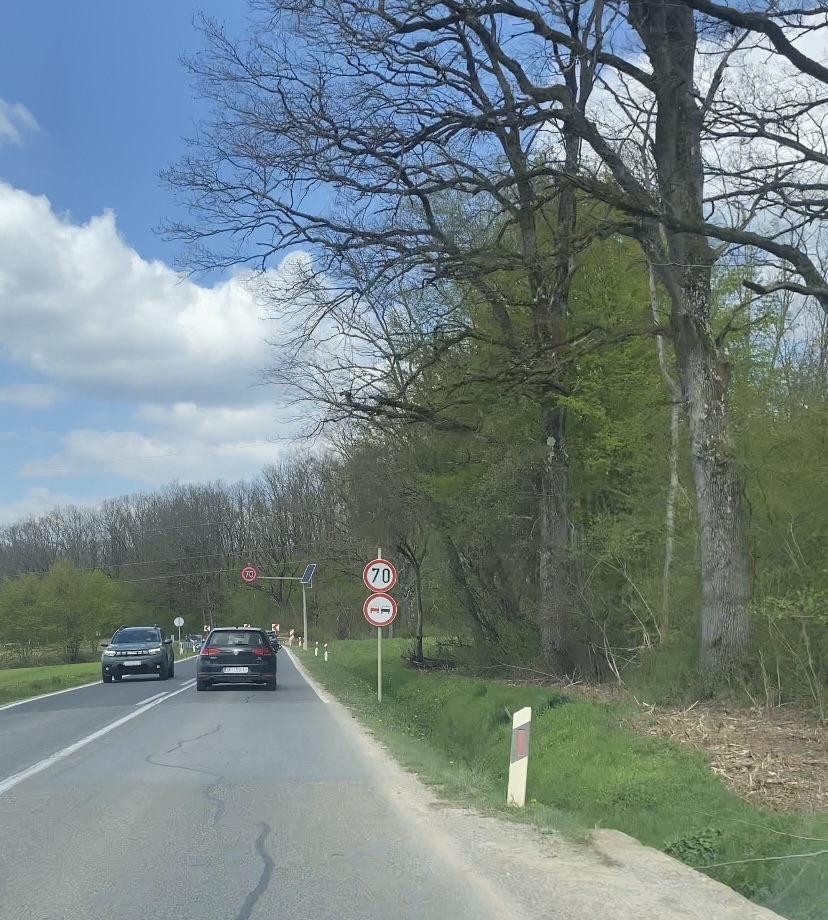Ograničenje brzine 70: (363, 558, 397, 593)
Zabrana pretjecanja: (363, 593, 397, 626)
